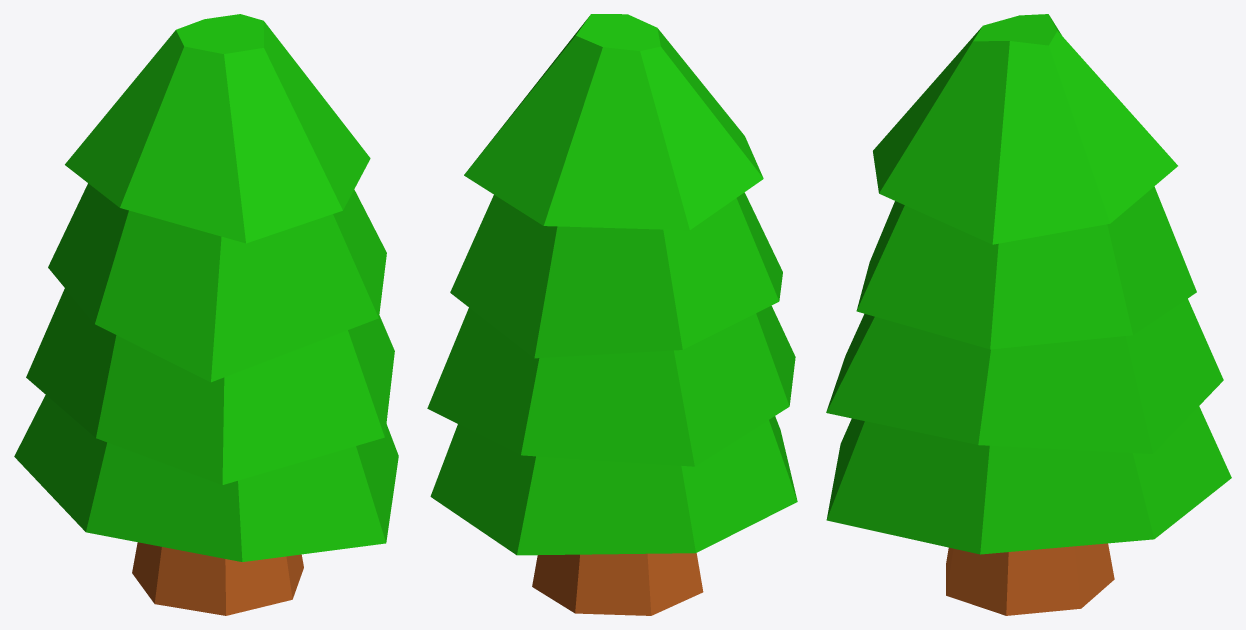
The model's file is ctree5C(F59).obj.
The picture shows the model from 3 angles, left to right: view 1: azimuth 30°, elevation 25°; view 2: azimuth 150°, elevation 25°; view 3: azimuth 270°, elevation 25°; orthographic projection.
Visible parts, largest first — view 1: Cylinder.164, Cylinder.163, Cylinder.162, Cylinder.161, Cylinder.160; view 2: Cylinder.164, Cylinder.162, Cylinder.163, Cylinder.161, Cylinder.160; view 3: Cylinder.164, Cylinder.162, Cylinder.161, Cylinder.163, Cylinder.160.
Part boxes in pixels (left/top/right/bottom): Cylinder.164: left=65, top=14, right=370, bottom=243; Cylinder.163: left=48, top=183, right=386, bottom=382; Cylinder.162: left=26, top=288, right=394, bottom=484; Cylinder.161: left=14, top=395, right=398, bottom=561; Cylinder.160: left=132, top=542, right=303, bottom=615; Cylinder.164: left=464, top=14, right=763, bottom=230; Cylinder.162: left=427, top=305, right=795, bottom=466; Cylinder.163: left=450, top=192, right=782, bottom=358; Cylinder.161: left=430, top=416, right=797, bottom=555; Cylinder.160: left=532, top=553, right=703, bottom=615; Cylinder.164: left=873, top=14, right=1177, bottom=244; Cylinder.162: left=826, top=298, right=1223, bottom=453; Cylinder.161: left=826, top=406, right=1231, bottom=554; Cylinder.163: left=856, top=186, right=1196, bottom=349; Cylinder.160: left=946, top=543, right=1114, bottom=615.
Bounding box in the file's own units: 1.07 × 1.82 × 1.2.
